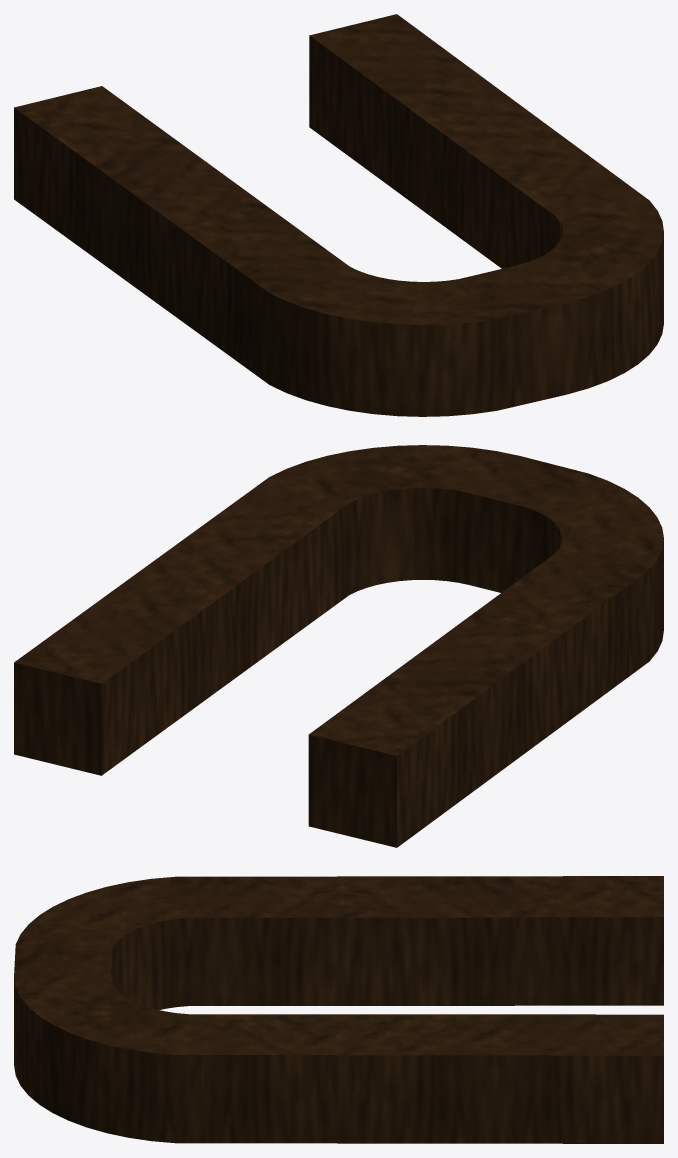
Rendered from LetterU.obj.
3 views of the same model, one above another, from view 1: azimuth 30°, elevation 25°; view 2: azimuth 150°, elevation 25°; view 3: azimuth 270°, elevation 25° (orthographic). The views are drawn at different scales.
Parts seen in each view (by area): view 1: LetterU; view 2: LetterU; view 3: LetterU.
Boxes of the visible parts, <box> form: LetterU: <box>14,14,663,416</box>; LetterU: <box>14,445,663,847</box>; LetterU: <box>14,876,663,1143</box>.
Bounding box in the file's own units: 0.6538 × 0.15 × 1.
